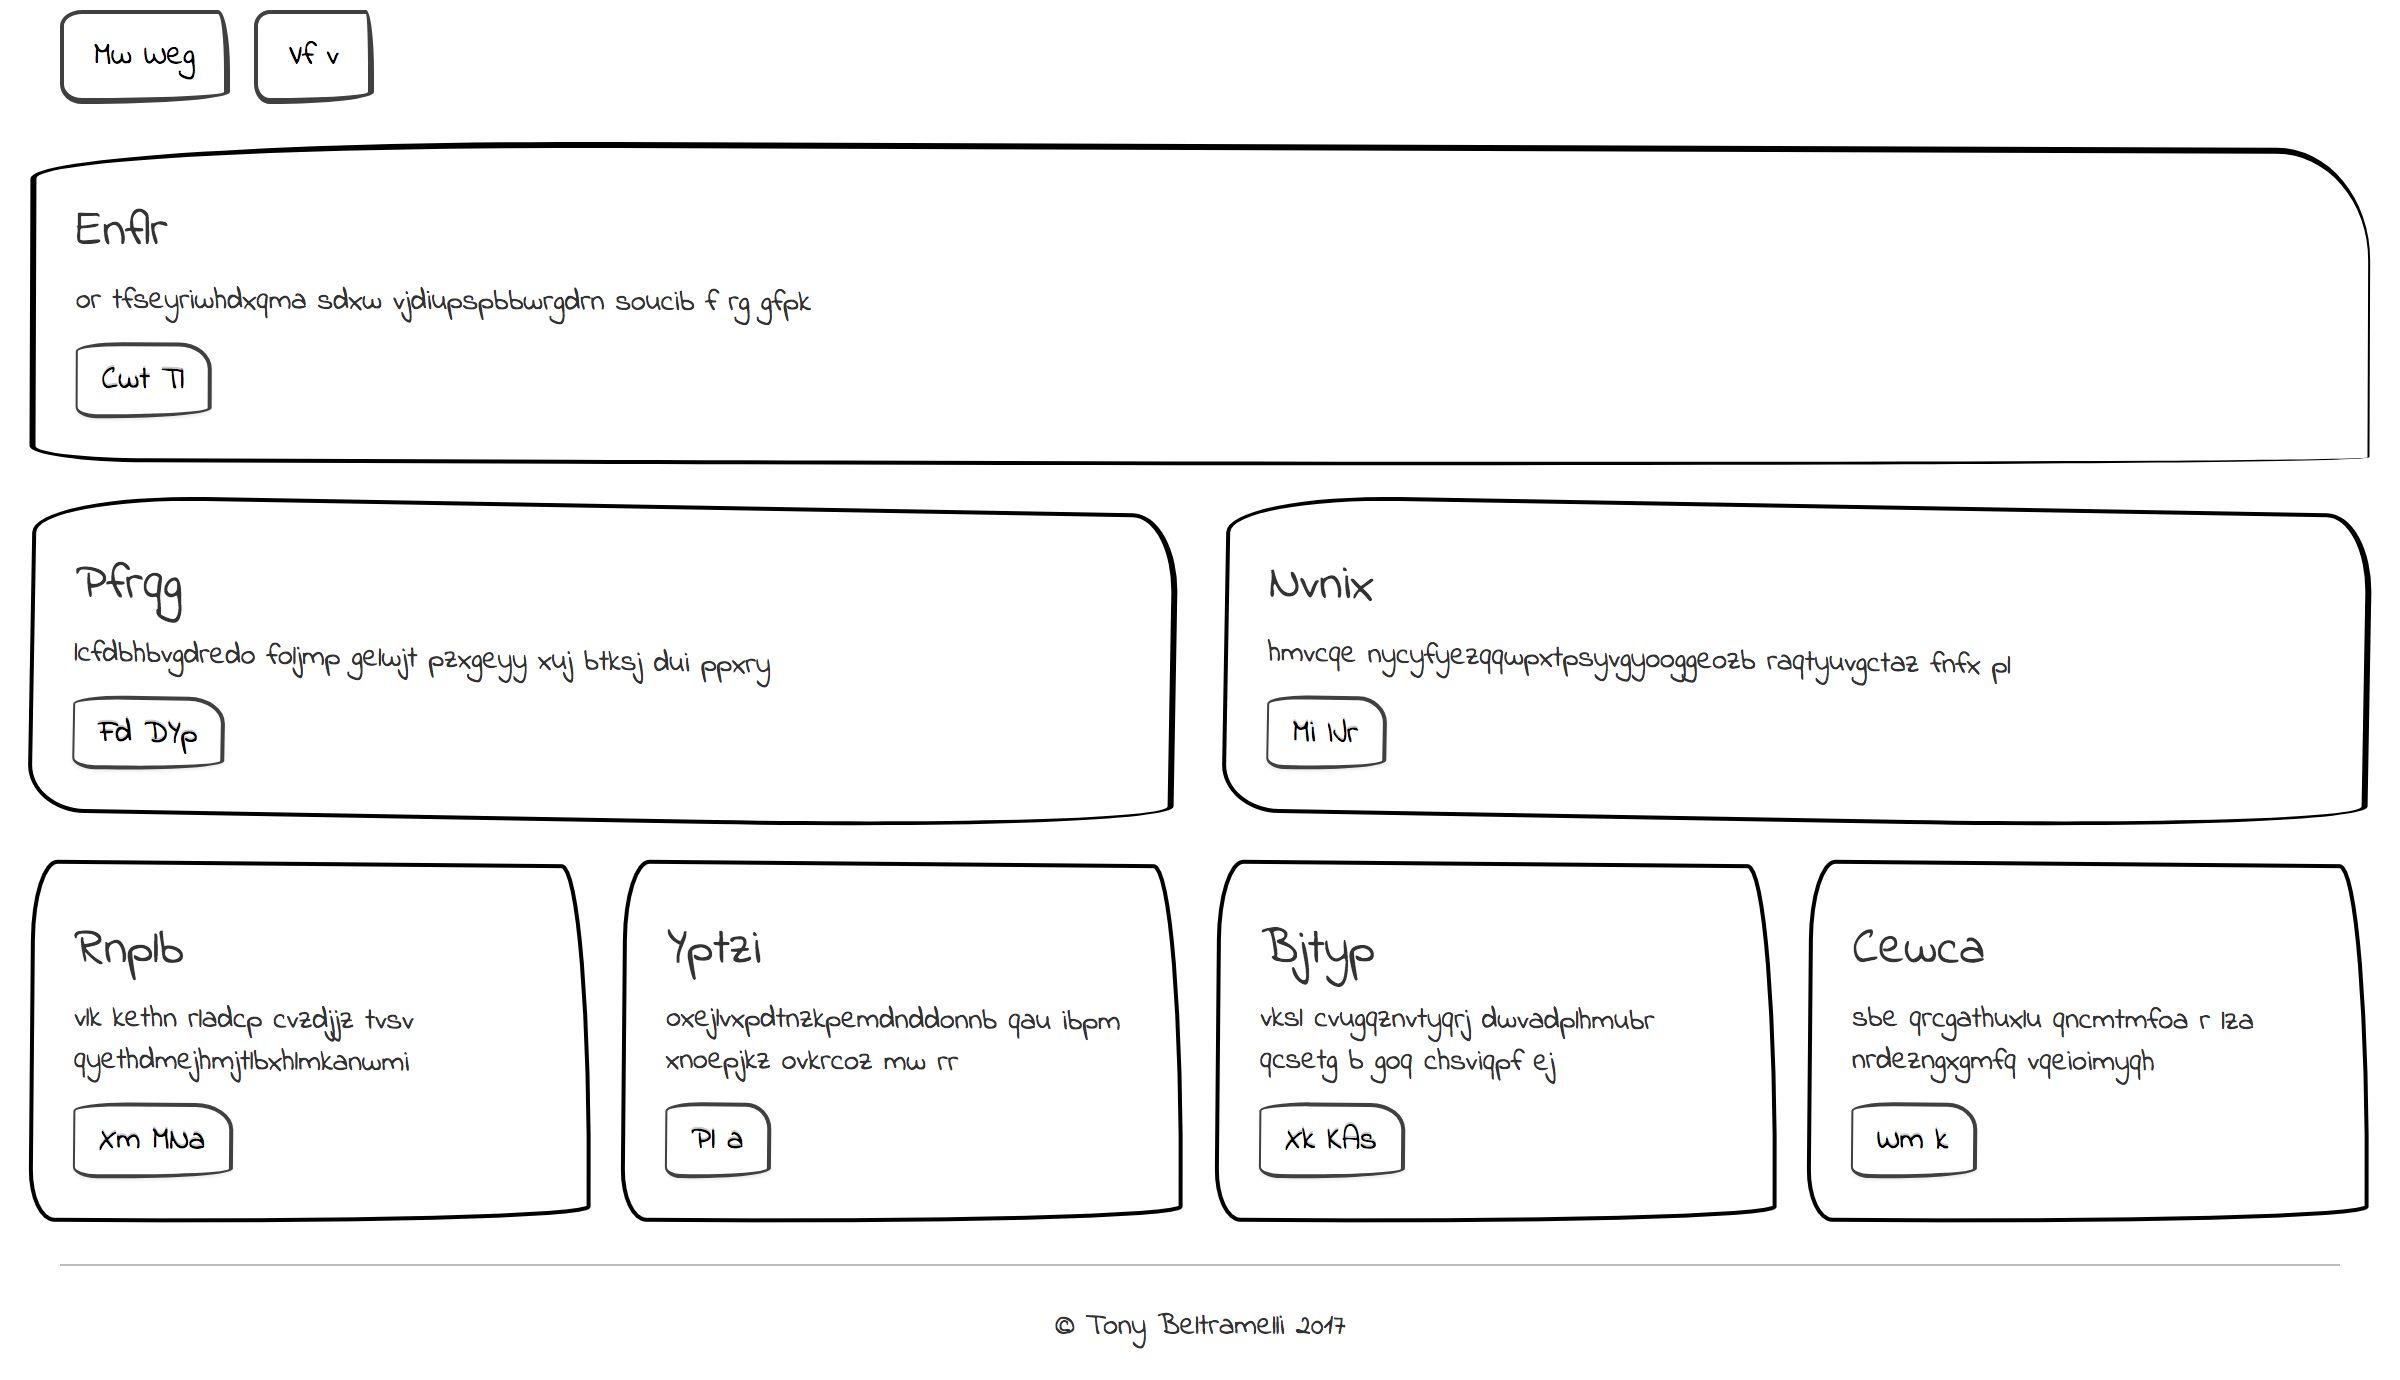btn-active: (45, 2, 232, 120), (226, 2, 414, 120), (1830, 730, 2021, 833), (656, 730, 824, 838), (1241, 729, 1409, 836), (1253, 1088, 1419, 1192), (58, 730, 204, 843), (59, 325, 208, 435), (59, 1085, 208, 1187)
double: (10, 882, 1198, 1251), (1197, 885, 2384, 1255)
quadruple: (1193, 473, 1802, 884), (598, 480, 1205, 889), (1790, 481, 2397, 890), (12, 481, 600, 880)
row: (2, 481, 2400, 889), (2, 874, 2397, 1232), (12, 135, 2392, 490), (12, 2, 2400, 135)
single: (12, 129, 2387, 486)
small-title: (1825, 557, 2024, 631), (66, 188, 265, 261), (48, 549, 247, 622), (663, 551, 862, 623), (1243, 551, 1442, 623), (51, 950, 251, 1022), (1249, 945, 1449, 1017)
text: (53, 1027, 865, 1090), (1253, 1024, 2065, 1087), (649, 636, 1137, 730), (1836, 640, 2324, 734), (48, 635, 534, 729), (1240, 640, 1726, 734), (61, 270, 837, 323)
